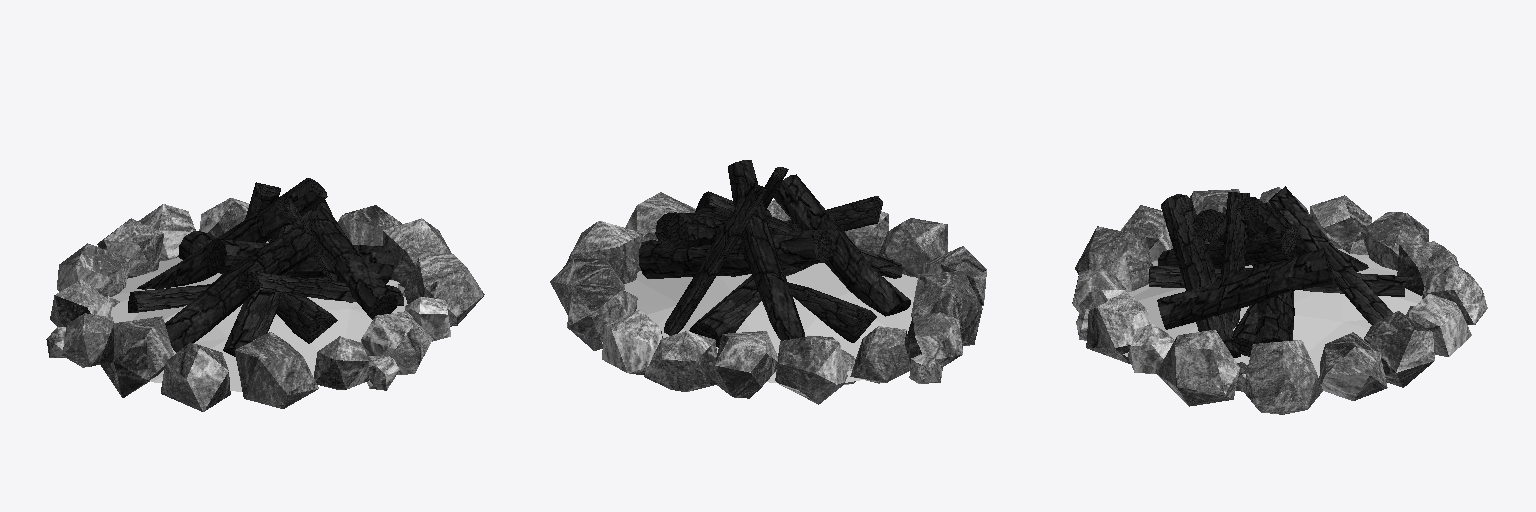
3 views of the same model, side by side, from view 1: azimuth 30°, elevation 25°; view 2: azimuth 150°, elevation 25°; view 3: azimuth 270°, elevation 25° (orthographic).
Visible parts, largest first — view 1: Plane.003, Plane, Plane.001; view 2: Plane.003, Plane, Plane.001; view 3: Plane.003, Plane, Plane.001.
Part boxes in pixels (left/top/right/bottom): Plane.003: left=46, top=198, right=484, bottom=411; Plane: left=128, top=178, right=403, bottom=356; Plane.001: left=111, top=241, right=407, bottom=391; Plane.003: left=550, top=192, right=986, bottom=404; Plane: left=639, top=160, right=910, bottom=347; Plane.001: left=602, top=263, right=917, bottom=382; Plane.003: left=1072, top=187, right=1487, bottom=414; Plane: left=1149, top=186, right=1405, bottom=357; Plane.001: left=1123, top=249, right=1421, bottom=377.
Bounding box in the file's own units: 6.26 × 2.38 × 5.79.
3 materials, 2 textured.